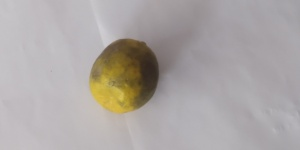BAD: (88, 35, 160, 115)
